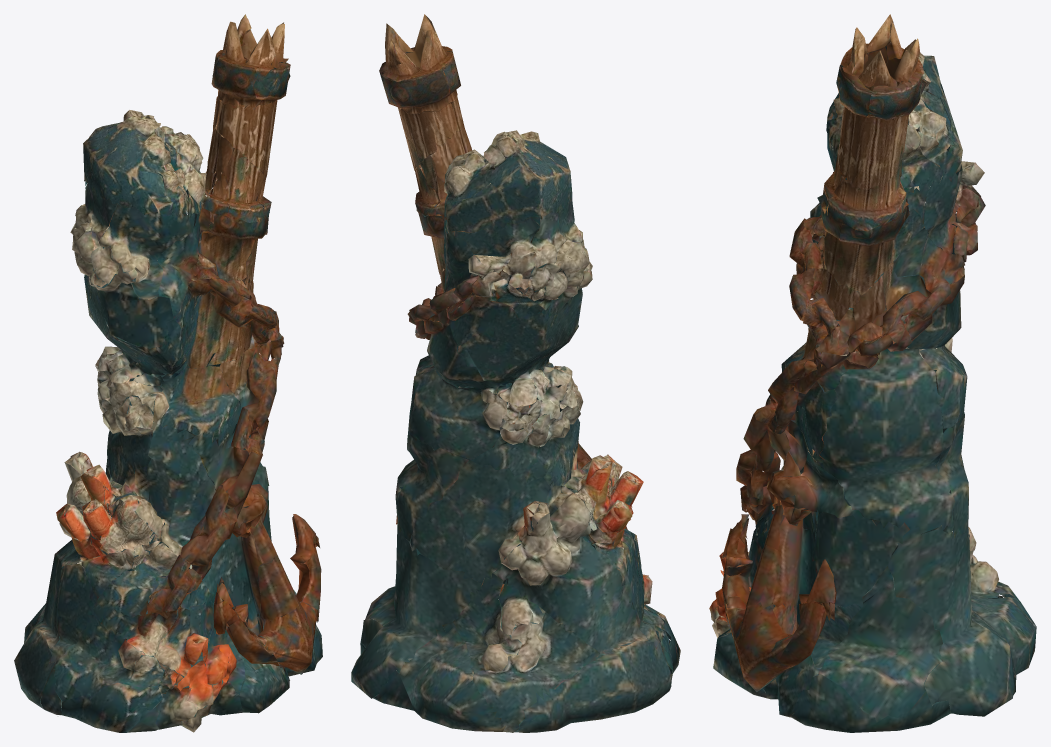
File: prop_deep_rock_pillar.glb
The picture shows the model from 3 angles, left to right: view 1: azimuth 30°, elevation 25°; view 2: azimuth 150°, elevation 25°; view 3: azimuth 270°, elevation 25°; orthographic projection. The views are drawn at different scales.
Parts seen in each view (by area): view 1: Mesh_0; view 2: Mesh_0; view 3: Mesh_0.
Boxes of the visible parts, <box> form: Mesh_0: <box>14,14,322,732</box>; Mesh_0: <box>351,14,680,732</box>; Mesh_0: <box>709,14,1036,732</box>.
Size of the model in its own units: 0.4671 by 0.9858 by 0.4246.
1 material, 1 textured.
